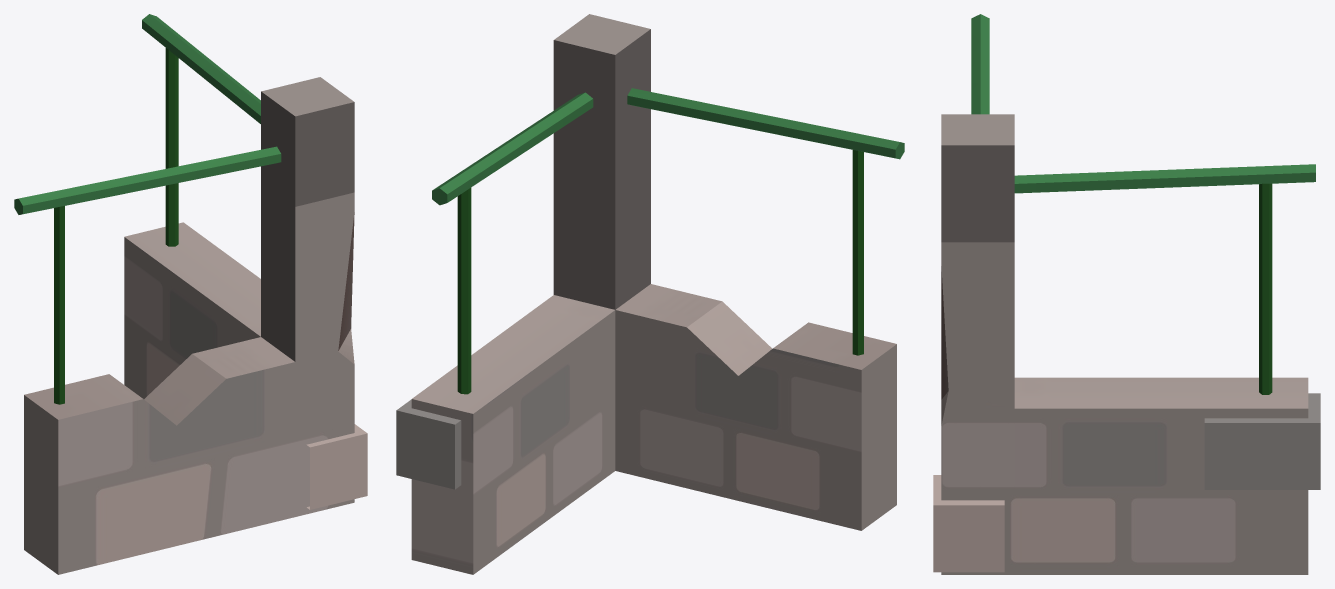
The model's file is SM_SmallWall_01.fbx.
3 renders of one model, left to right at view 1: azimuth 30°, elevation 25°; view 2: azimuth 150°, elevation 25°; view 3: azimuth 270°, elevation 25°, orthographic. The views are drawn at different scales.
Visible parts, largest first — view 1: SM_SmallWall_01; view 2: SM_SmallWall_01; view 3: SM_SmallWall_01.
Boxes of the visible parts, box(x1,y1,x2,y2) form: SM_SmallWall_01: box(14, 14, 367, 574); SM_SmallWall_01: box(396, 14, 904, 574); SM_SmallWall_01: box(933, 14, 1320, 574).
Bounding box in the file's own units: 1.1 × 1.29 × 1.06.
